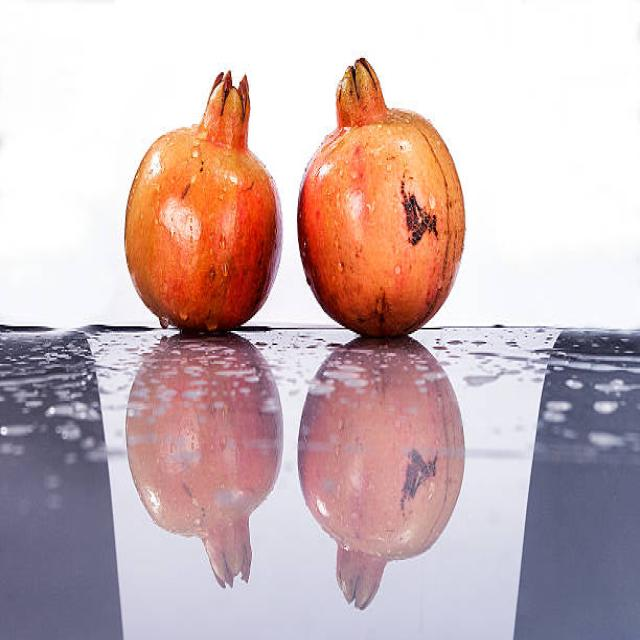overripe: (296, 54, 466, 338), (123, 61, 286, 336)
